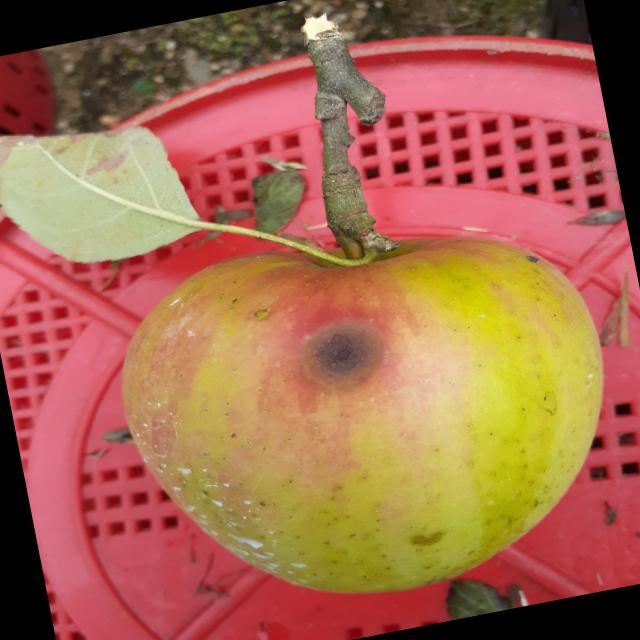rotten: (80, 172, 640, 640)
